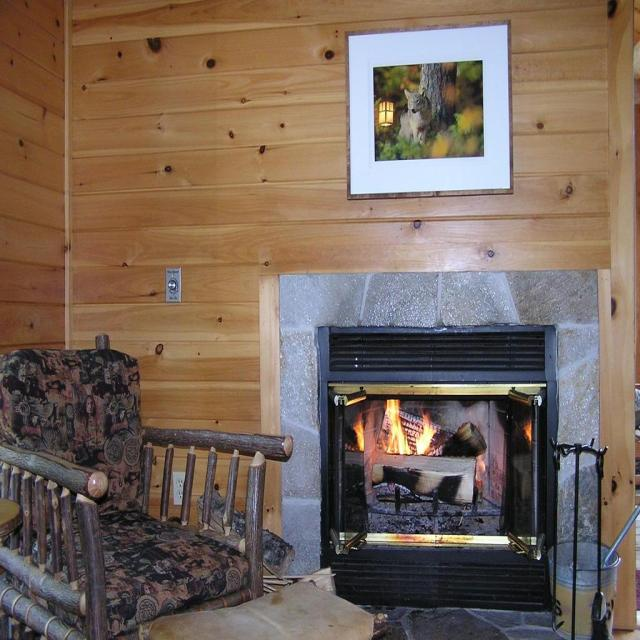Fire: (346, 396, 446, 460)
